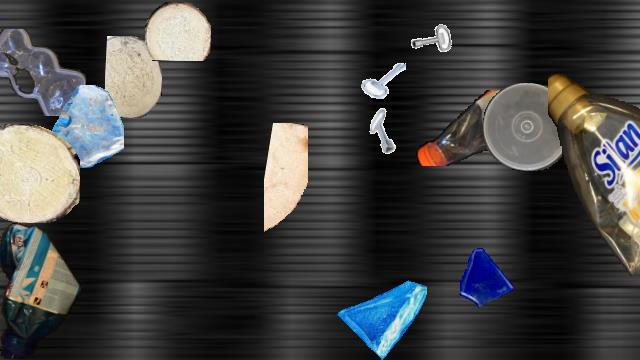glass: (336, 269, 426, 359), (41, 85, 123, 167), (454, 245, 516, 307)
metal: (399, 2, 455, 58), (362, 108, 408, 154), (361, 59, 405, 103)
plastic: (548, 66, 640, 276), (414, 90, 560, 166), (0, 221, 80, 359), (483, 83, 571, 171), (0, 29, 87, 115)
wood: (0, 124, 79, 222), (264, 123, 308, 239), (105, 36, 161, 118), (145, 2, 211, 60)
